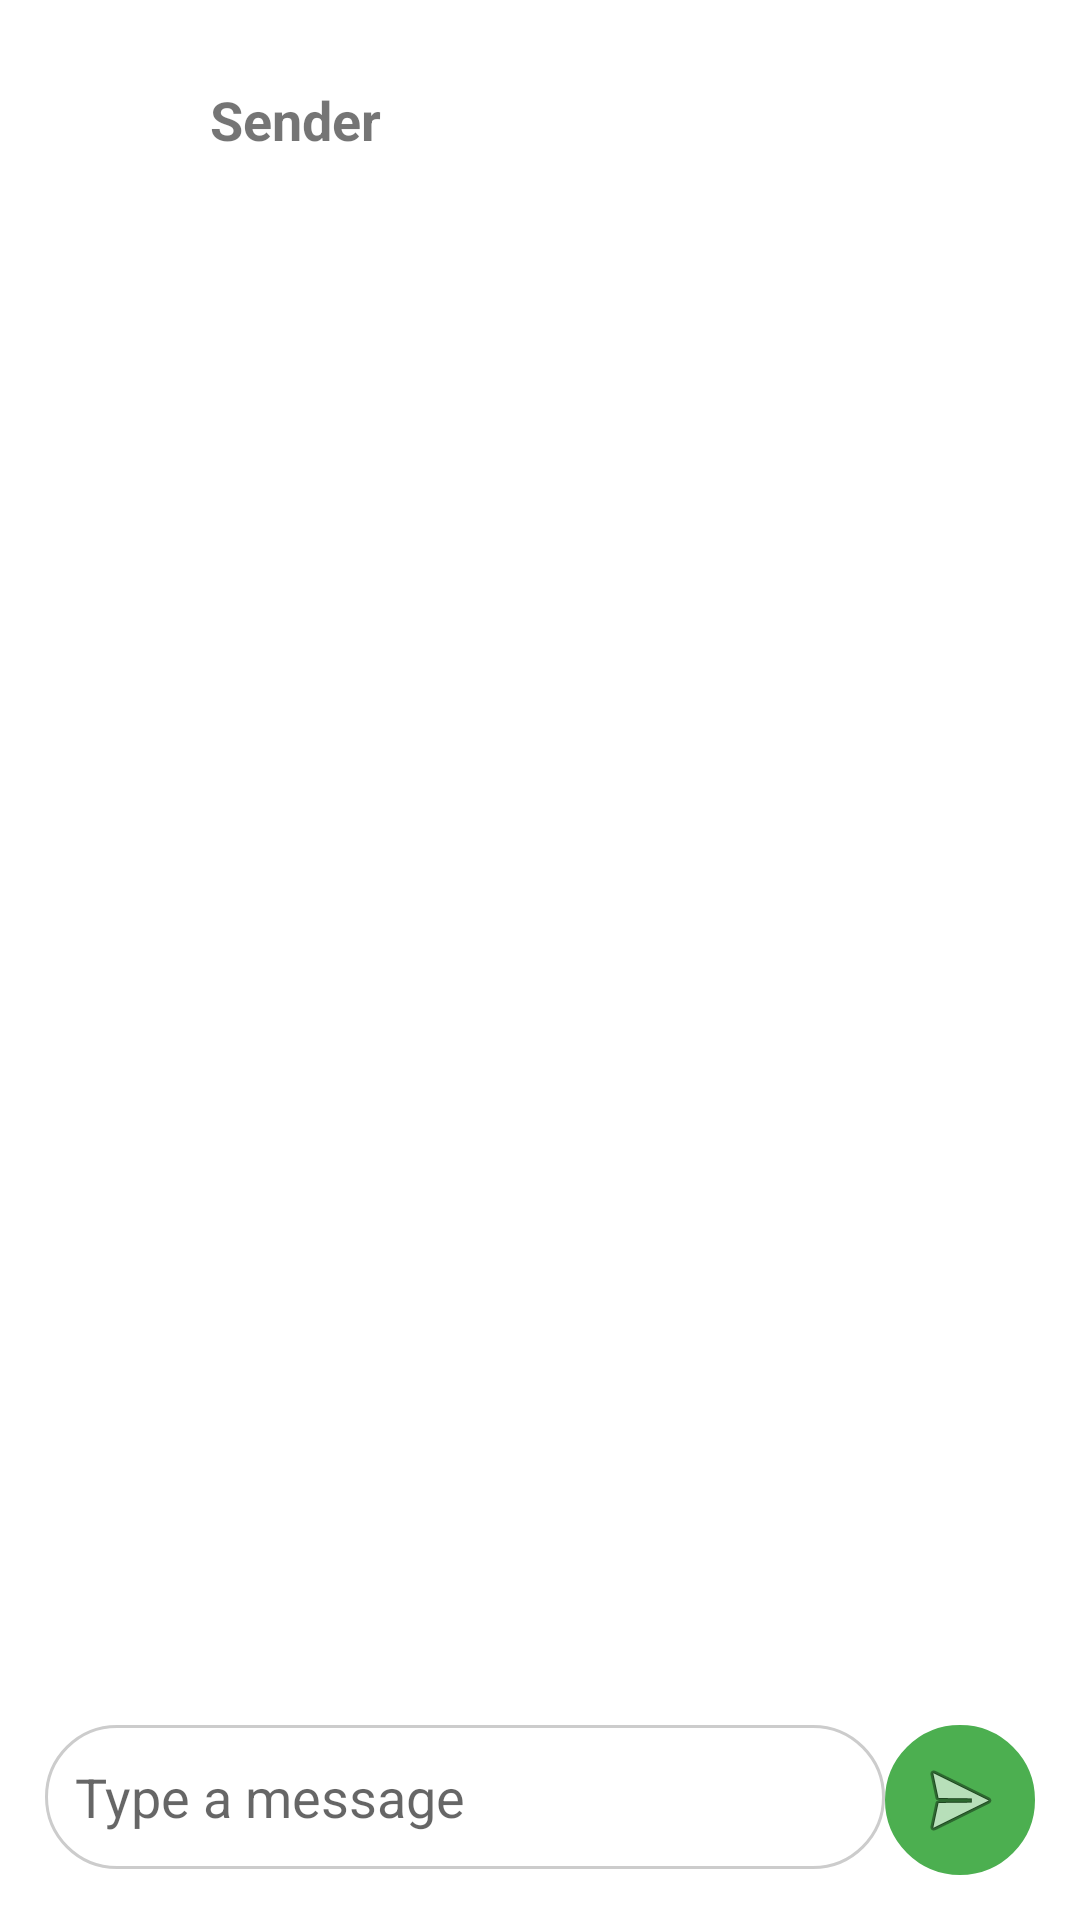

Locate icon controls on the screen. Image size 1080px×1920px, boxes as (x1, y1, x2, y2).
send: (885, 1725, 1035, 1875)
